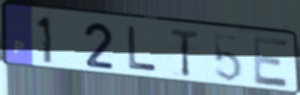1: (34, 15, 55, 65)
2: (80, 19, 119, 72)
5: (211, 31, 246, 83)
E: (250, 34, 291, 90)
L: (126, 24, 159, 74)
T: (168, 26, 201, 79)
